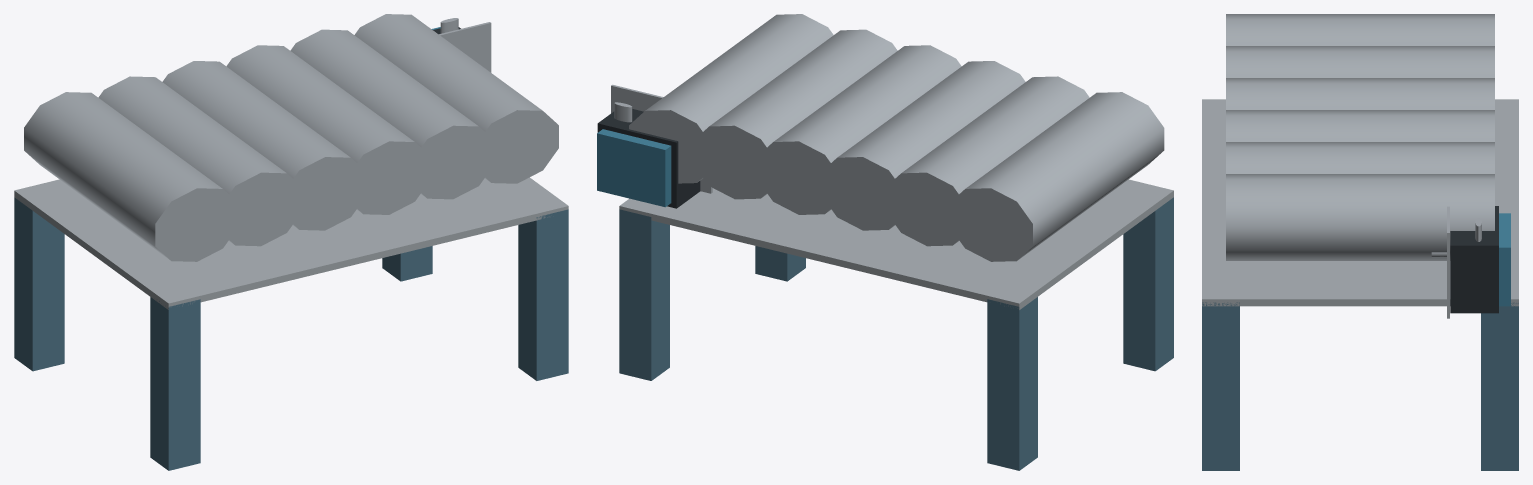
The picture shows the model from 3 angles, left to right: view 1: azimuth 30°, elevation 25°; view 2: azimuth 150°, elevation 25°; view 3: azimuth 270°, elevation 25°; orthographic projection. The views are drawn at different scales.
Visible parts, largest first — view 1: g4.001, g0.007, g0.006, g0.004, g0, g0.005, g0.002, g1, g3, g0.003, g1.001, g2; view 2: g4.001, g0.007, g0.004, g0, g0.005, g0.006, g0.002, g0.003, g2, g1, g3.001, g0.001 (+2 smaller); view 3: g0.002, g4.001, g0.007, g0.006, g0.005, g0.004, g0, g3, g2, g0.001, g3.001, g1.001.
Part boxes in pixels (left/top/right/bottom): g4.001: left=14, top=177, right=568, bottom=309; g0.007: left=24, top=92, right=238, bottom=261; g0.006: left=98, top=76, right=302, bottom=246; g0.004: left=226, top=45, right=430, bottom=214; g0: left=290, top=29, right=494, bottom=199; g0.005: left=162, top=61, right=366, bottom=230; g0.002: left=354, top=14, right=558, bottom=183; g1: left=150, top=297, right=200, bottom=470; g3: left=518, top=209, right=568, bottom=380; g0.003: left=14, top=197, right=64, bottom=371; g1.001: left=439, top=22, right=491, bottom=72; g2: left=382, top=246, right=432, bottom=281; g4.001: left=619, top=179, right=1173, bottom=309; g0.007: left=949, top=92, right=1164, bottom=261; g0.004: left=757, top=45, right=961, bottom=214; g0: left=693, top=29, right=897, bottom=199; g0.005: left=821, top=61, right=1025, bottom=230; g0.006: left=885, top=76, right=1089, bottom=246; g0.002: left=629, top=14, right=833, bottom=183; g0.003: left=987, top=297, right=1037, bottom=470; g2: left=619, top=209, right=669, bottom=380; g1: left=1123, top=197, right=1173, bottom=371; g3.001: left=597, top=129, right=671, bottom=207; g0.001: left=597, top=109, right=700, bottom=208; g0.002: left=1226, top=174, right=1494, bottom=260; g4.001: left=1202, top=99, right=1518, bottom=306; g0.007: left=1226, top=14, right=1494, bottom=45; g0.006: left=1226, top=46, right=1494, bottom=77; g0.005: left=1226, top=78, right=1494, bottom=109; g0.004: left=1226, top=110, right=1494, bottom=141; g0: left=1226, top=142, right=1494, bottom=173; g3: left=1202, top=302, right=1239, bottom=470; g2: left=1481, top=302, right=1518, bottom=470; g0.001: left=1450, top=206, right=1498, bottom=313; g3.001: left=1499, top=213, right=1510, bottom=306; g1.001: left=1447, top=206, right=1449, bottom=318.
Size of the model in its own units: 2.99 by 1.7 by 1.8.
